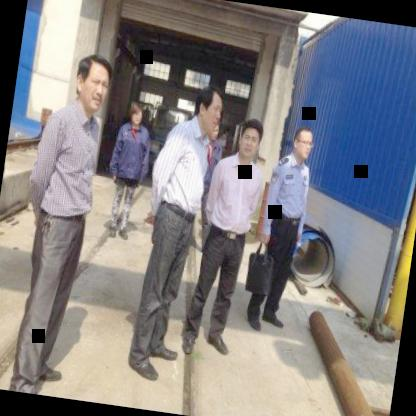head: (71, 49, 118, 118), (193, 80, 226, 136), (234, 114, 266, 164), (288, 121, 318, 164), (126, 97, 147, 128)
